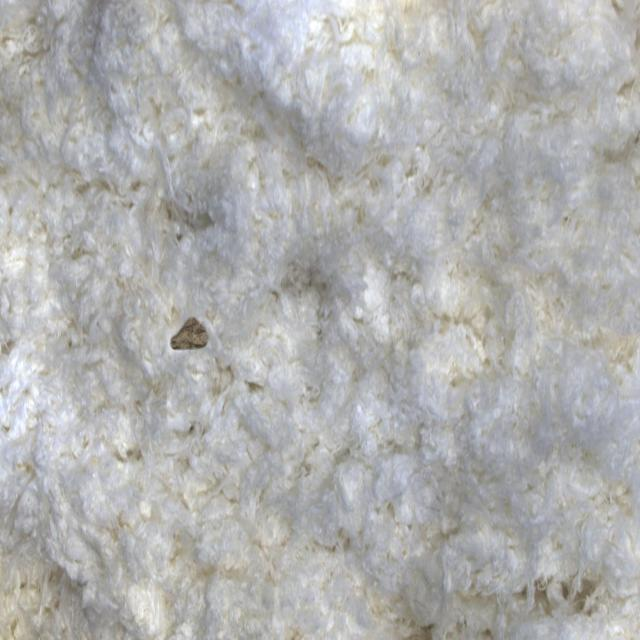dust: (153, 288, 234, 389)
